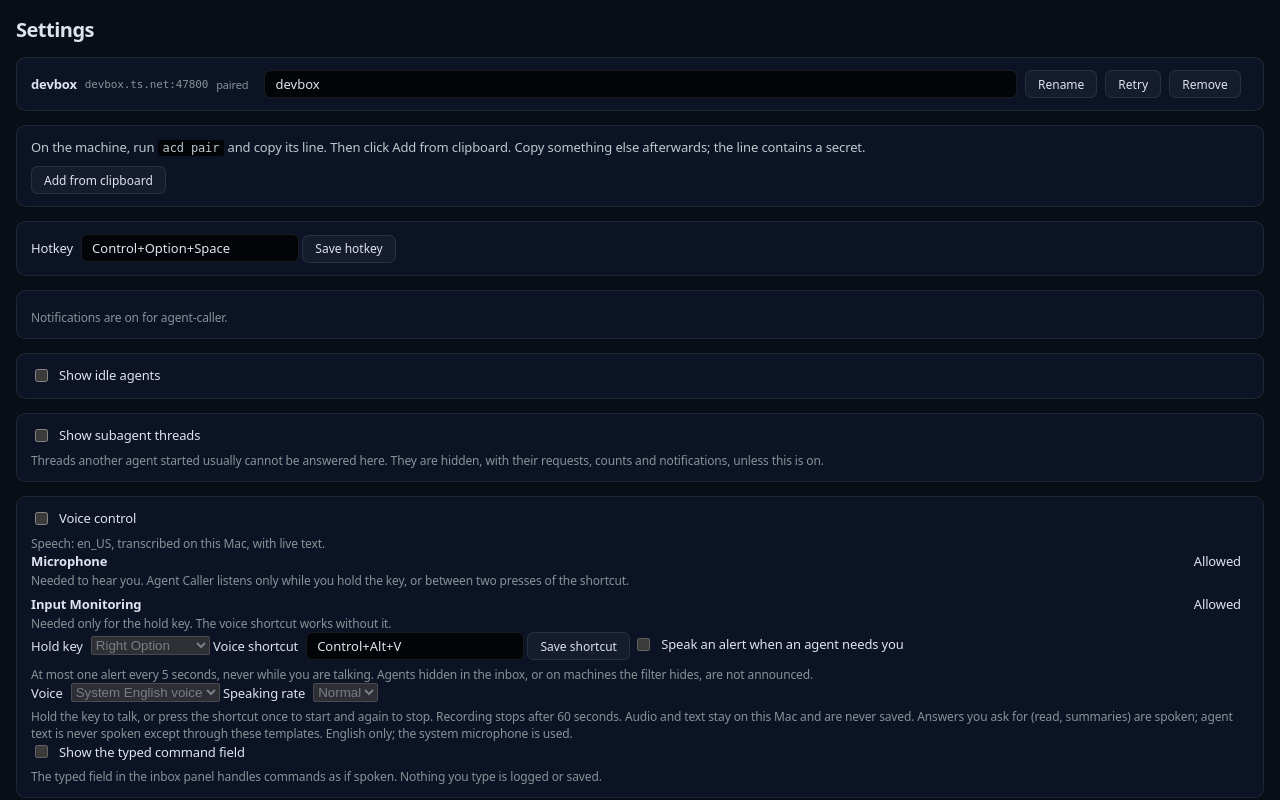
Test: a double click on Remove lands on Cancel and removes nothing
Click the button "Remove": (1205, 84) 1169,70 -> 1241,98
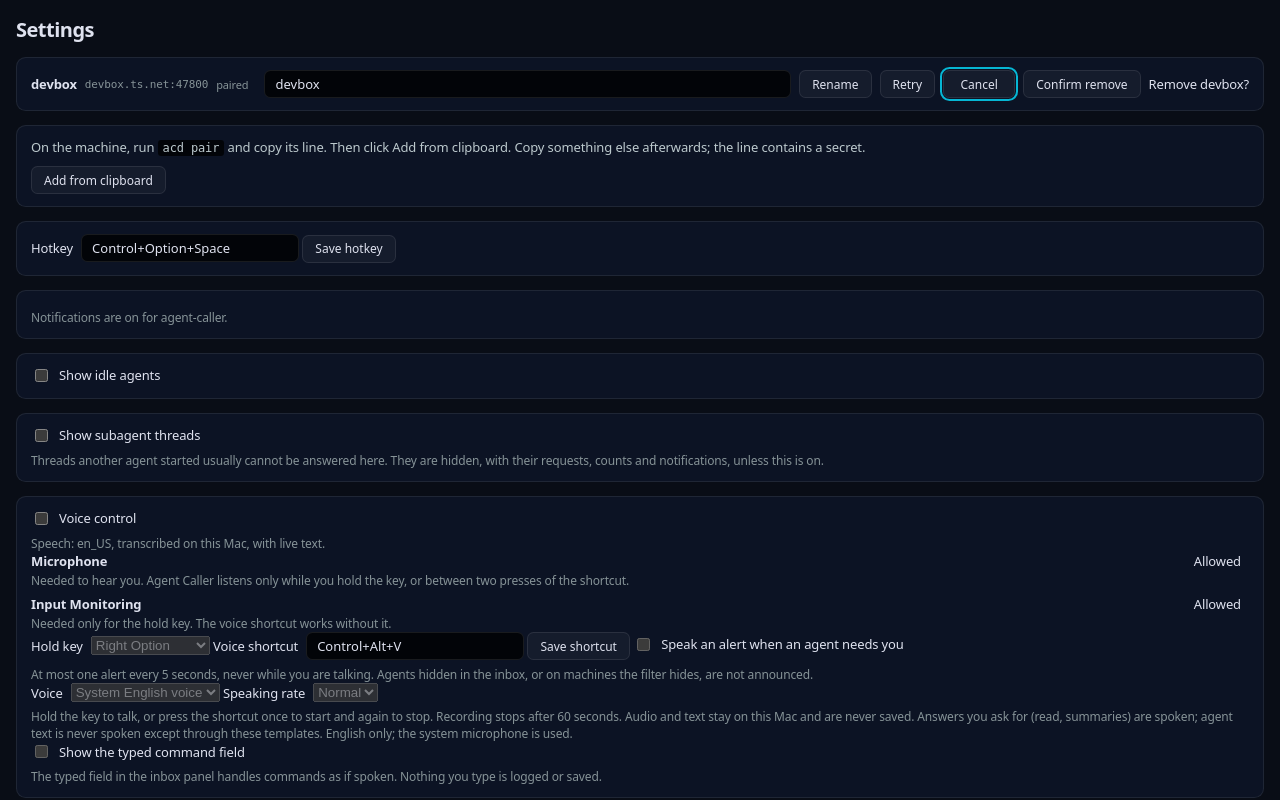
Now the button "Cancel" is shown
Now the text "Remove devbox?" is shown, box 1148,75 -> 1249,93
Click the button "Cancel": (979, 84) 943,70 -> 1015,98
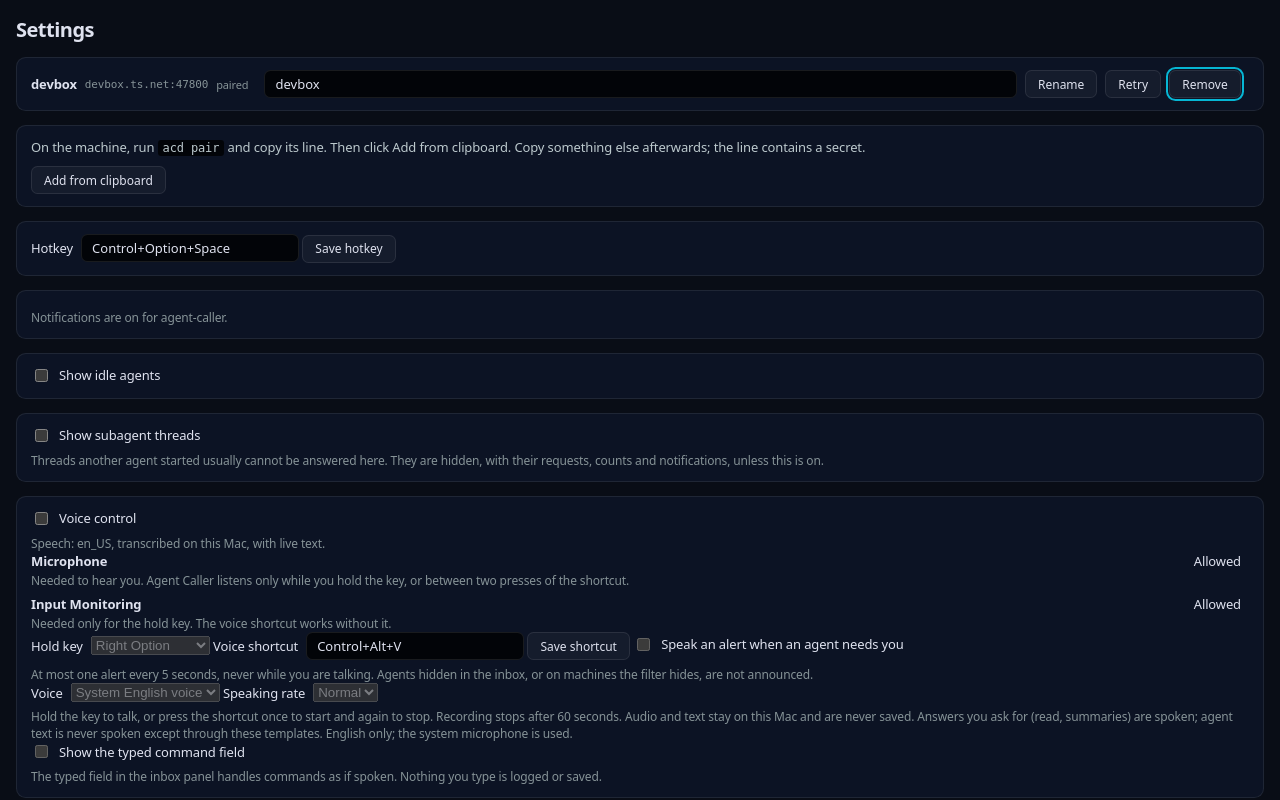
Now the button "Remove" is shown, box 1169,70 -> 1241,98
